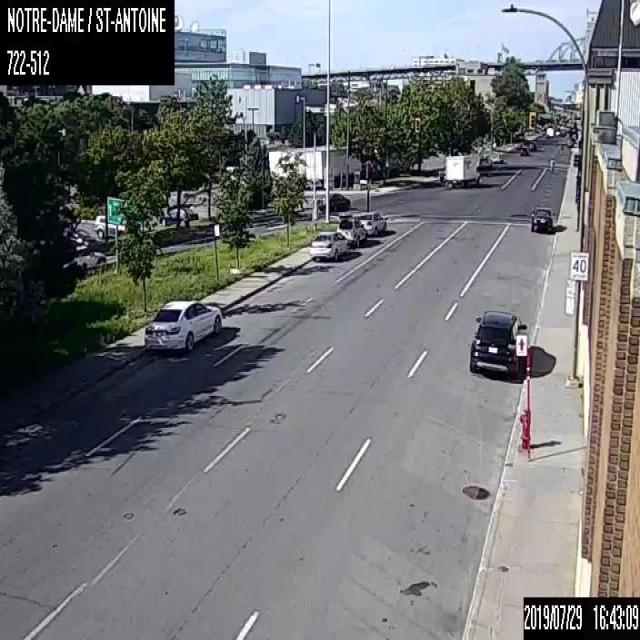vehicle: (144, 297, 222, 352), (468, 306, 526, 374), (444, 153, 480, 187), (309, 231, 349, 260), (335, 217, 367, 246), (158, 205, 198, 225), (356, 211, 386, 235), (94, 214, 124, 237), (318, 192, 350, 212), (530, 203, 552, 232), (68, 228, 96, 248), (478, 156, 492, 169), (550, 156, 554, 172)
